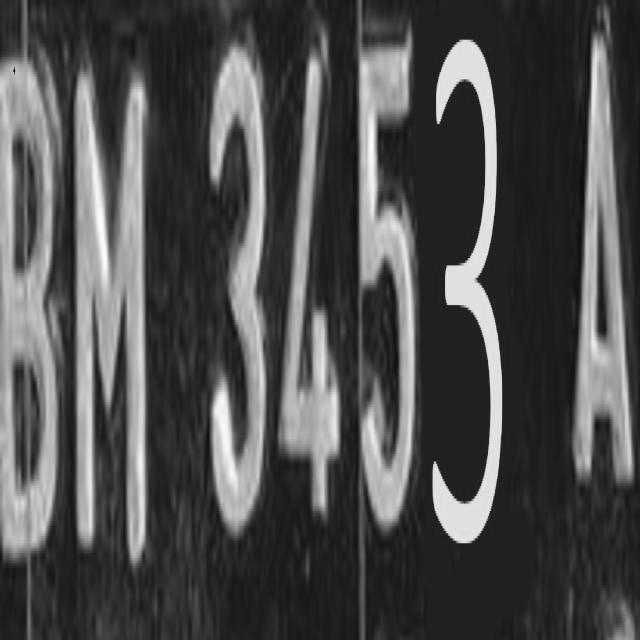3: (428, 28, 502, 558), (200, 28, 276, 532)
4: (282, 38, 342, 510)
5: (350, 25, 422, 534)
A: (570, 20, 640, 494)
B: (0, 40, 66, 566)
M: (72, 55, 151, 568)
